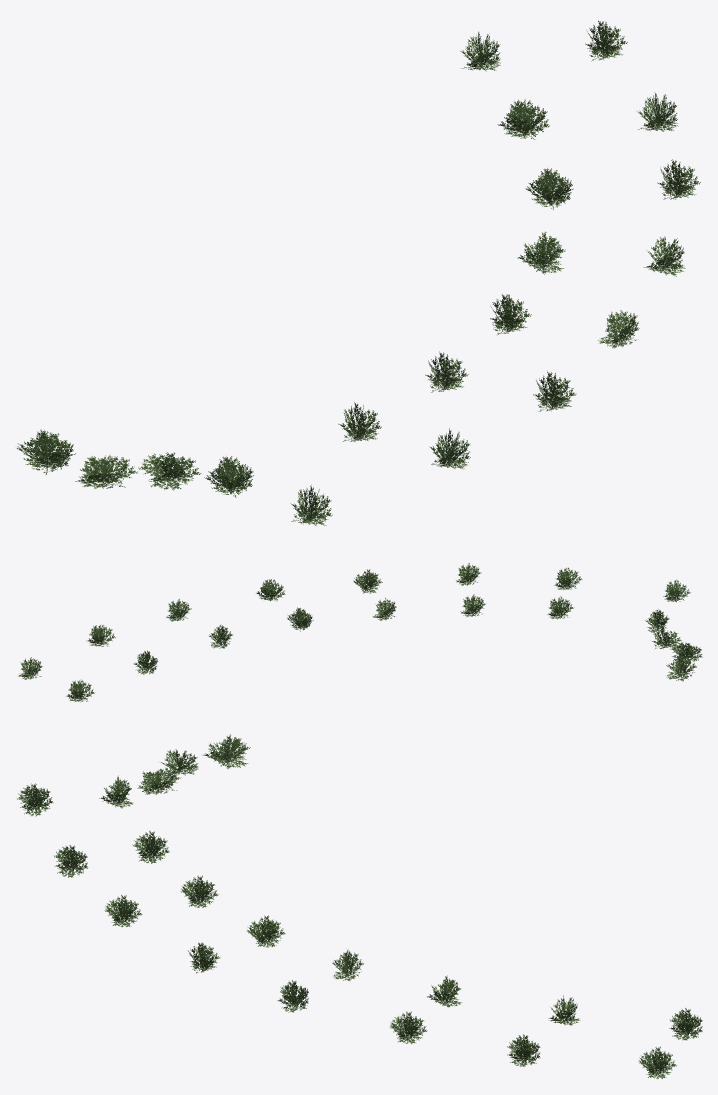
The model's file is Plants_Entrance_Right_COMBO.fbx.
The picture shows the model from 3 angles, top to bottom: view 1: azimuth 30°, elevation 25°; view 2: azimuth 150°, elevation 25°; view 3: azimuth 270°, elevation 25°; orthographic projection. The views are drawn at different scales.
Parts seen in each view (by area): view 1: Sun_0016_Low_level_shrub; view 2: Sun_0016_Low_level_shrub; view 3: Sun_0016_Low_level_shrub.
Boxes of the visible parts, x1=… form: Sun_0016_Low_level_shrub: x1=17, y1=20, x2=700, y2=525; Sun_0016_Low_level_shrub: x1=18, y1=563, x2=702, y2=702; Sun_0016_Low_level_shrub: x1=17, y1=734, x2=702, y2=1078.
Bounding box in the file's own units: 44.25 × 2.27 × 39.09.
